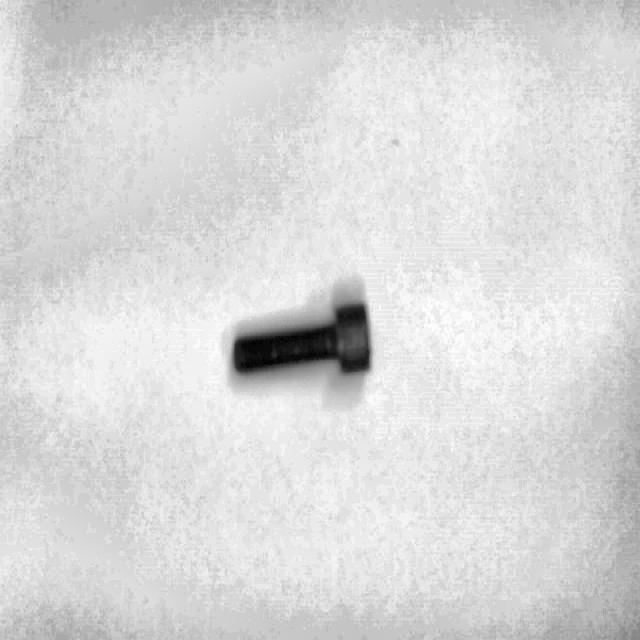Socket head cap screw: (231, 299, 372, 377)
